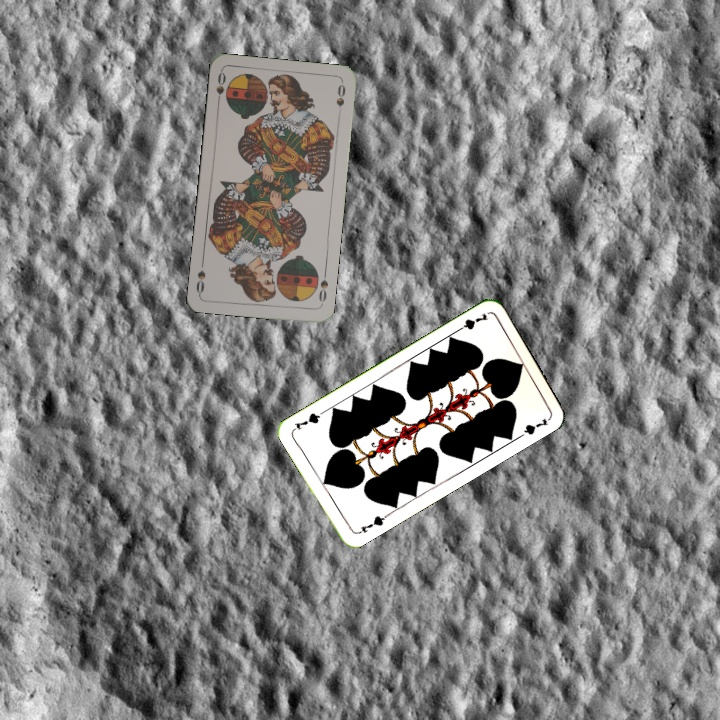G7: (452, 309, 491, 335), (353, 511, 390, 537)
SO: (212, 68, 228, 108), (314, 268, 330, 308)
